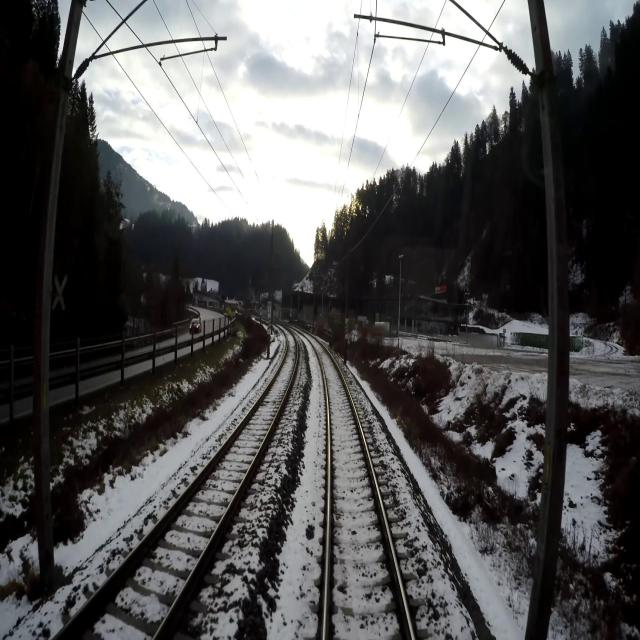rail-track: (58, 329, 296, 639), (308, 335, 410, 639)
